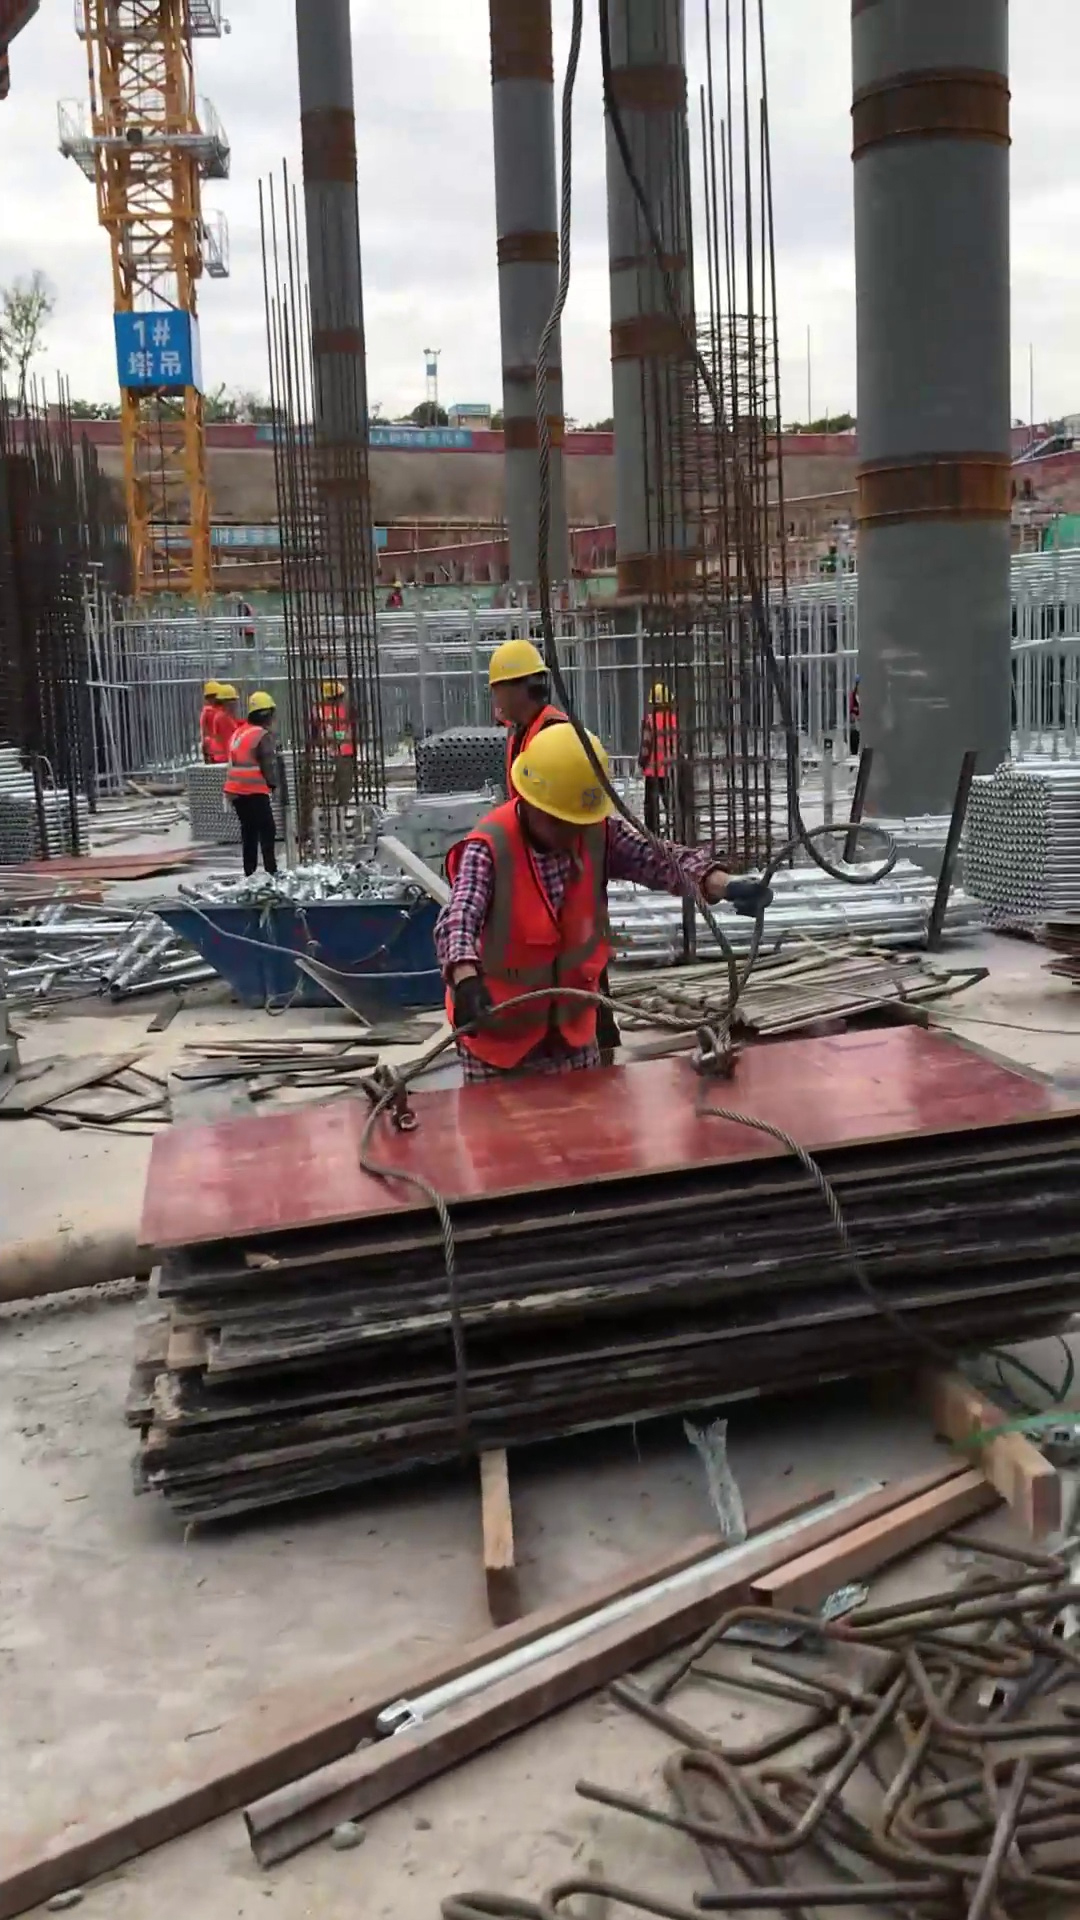board: (121, 1020, 1080, 1540)
helmet: (510, 718, 624, 833), (480, 632, 550, 692), (243, 688, 285, 722), (643, 679, 678, 713), (197, 671, 224, 708), (215, 681, 240, 710)
hopper: (145, 887, 454, 1039)
person: (437, 717, 782, 1114), (476, 629, 578, 813), (228, 685, 292, 879), (629, 667, 687, 844), (185, 665, 224, 767), (211, 681, 242, 769)
scaffold: (949, 748, 1080, 935), (1, 744, 110, 874), (407, 718, 512, 792)
slogan: (370, 426, 475, 451), (212, 526, 288, 549)
vest: (444, 799, 629, 1074), (499, 703, 567, 804), (222, 722, 279, 806), (639, 711, 689, 792), (205, 700, 240, 765), (196, 700, 225, 764)
